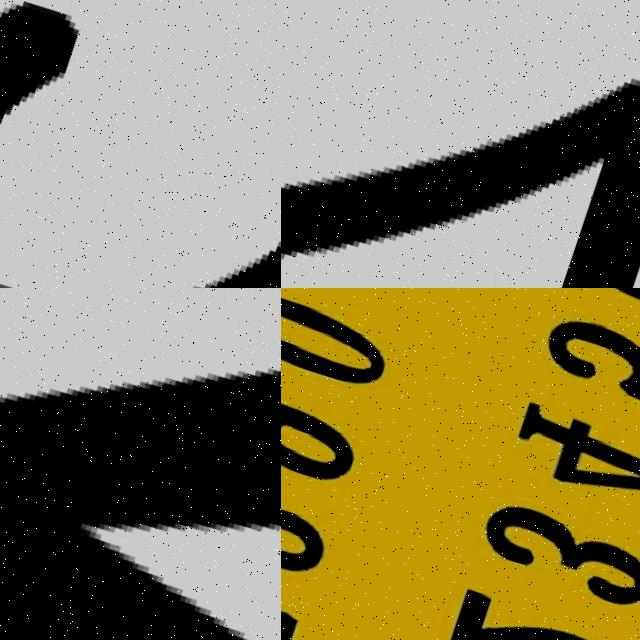0: (281, 288, 416, 416)
2: (419, 570, 640, 640)
3: (462, 484, 640, 629)
4: (485, 383, 640, 540)
5: (520, 293, 640, 456)
6: (535, 288, 640, 364)
7: (281, 0, 640, 288)
8: (281, 446, 357, 598)
9: (281, 350, 387, 509)
V: (0, 288, 281, 640)
